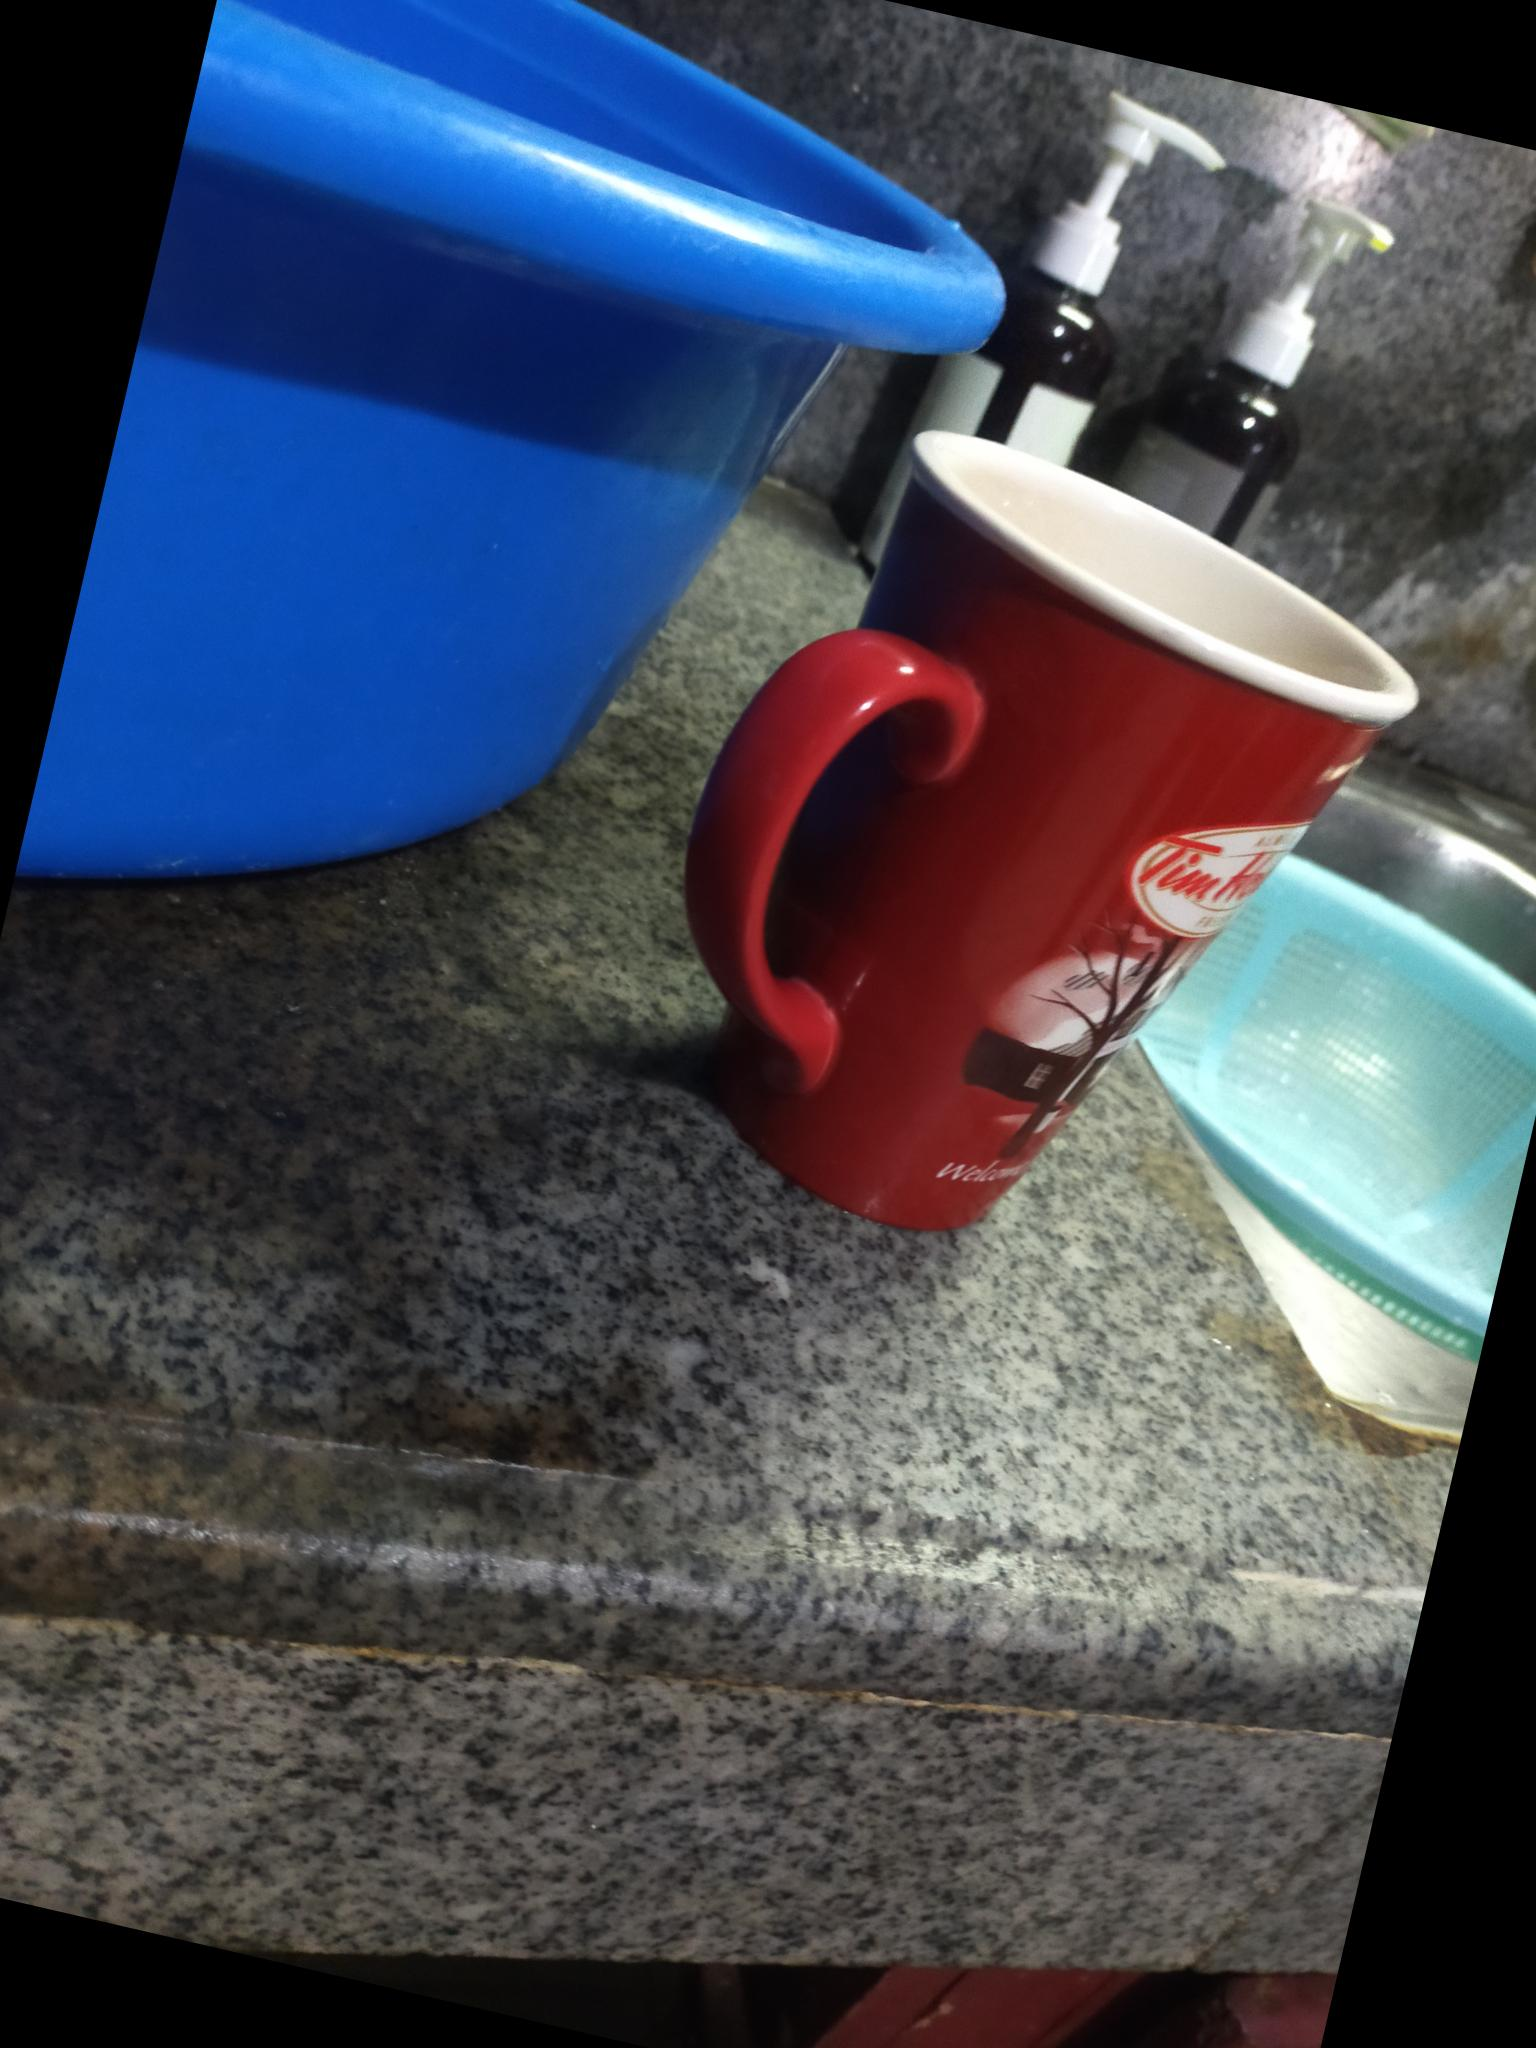Coffee Mug: (623, 393, 1457, 1322)
